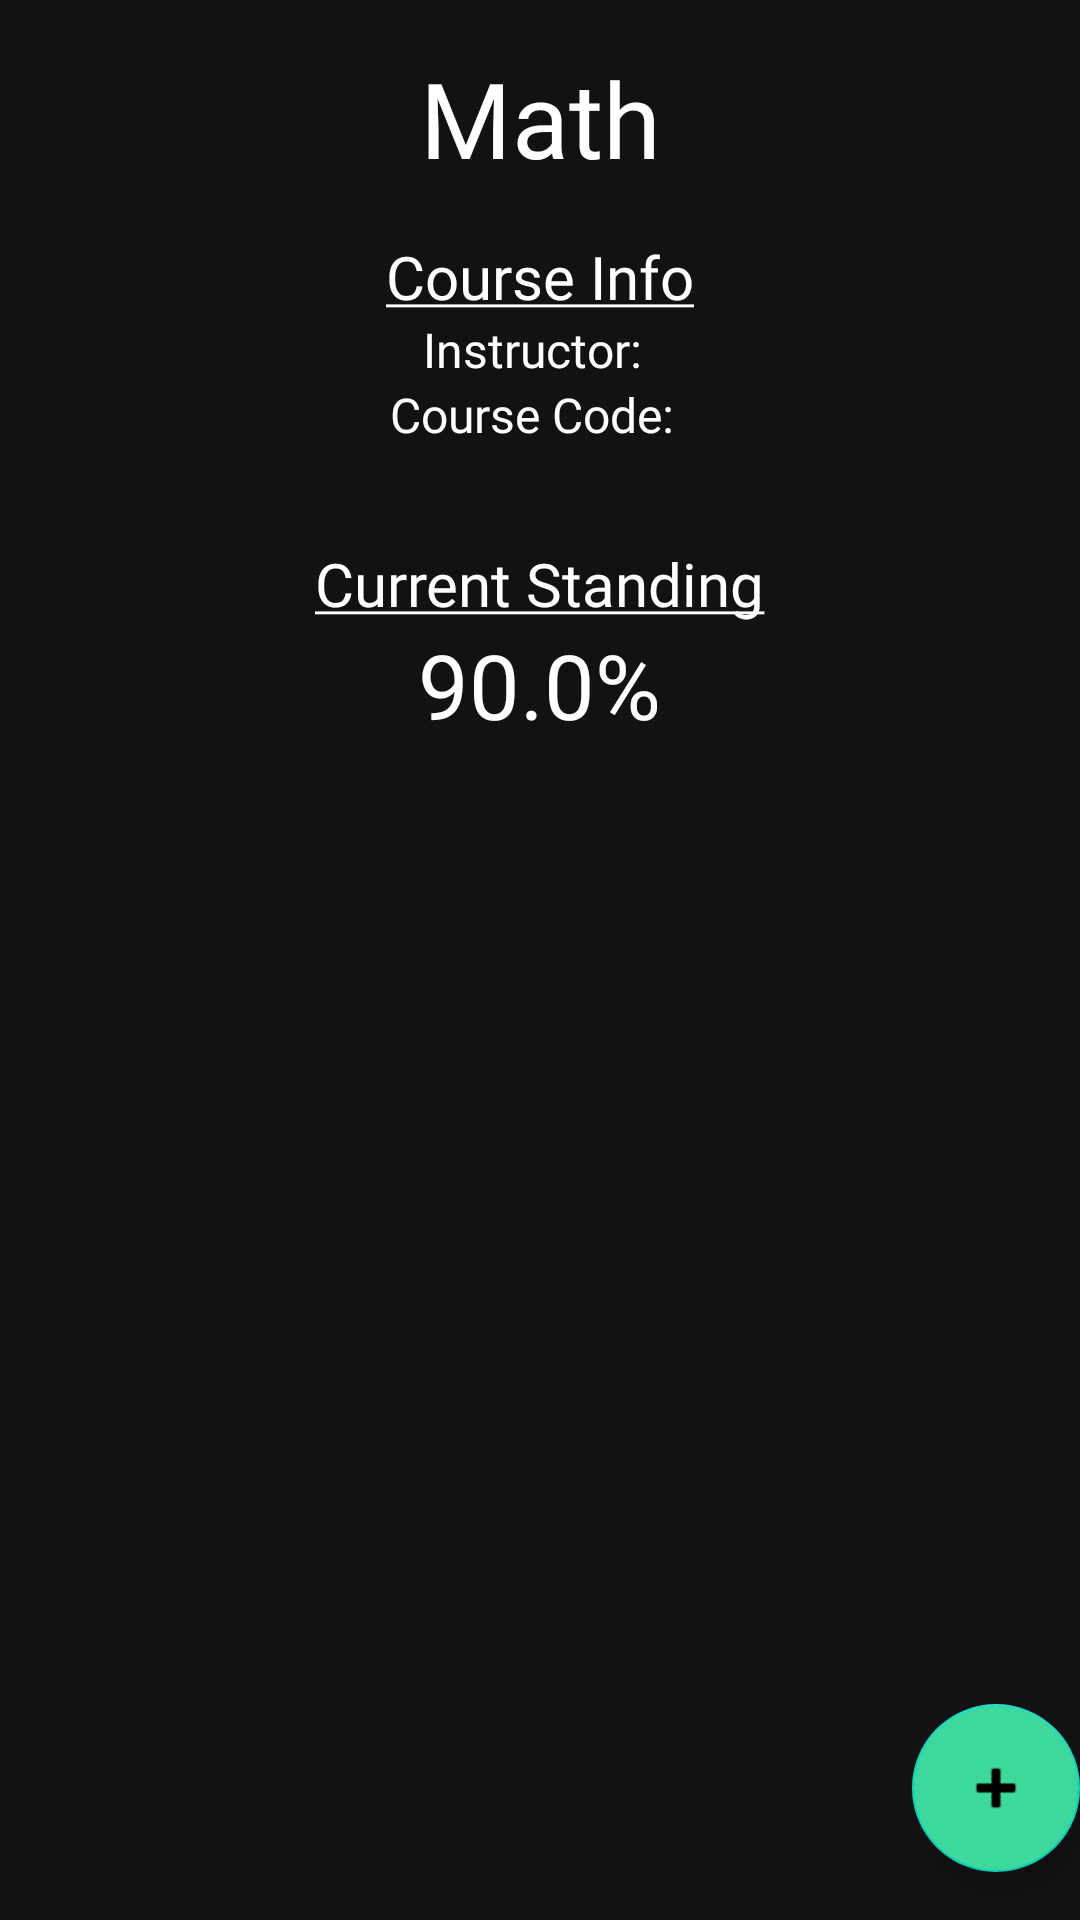

Icons on this 1080x1920 Android screen, each with the point to tap as point (x, y):
add: point (996, 1788)
